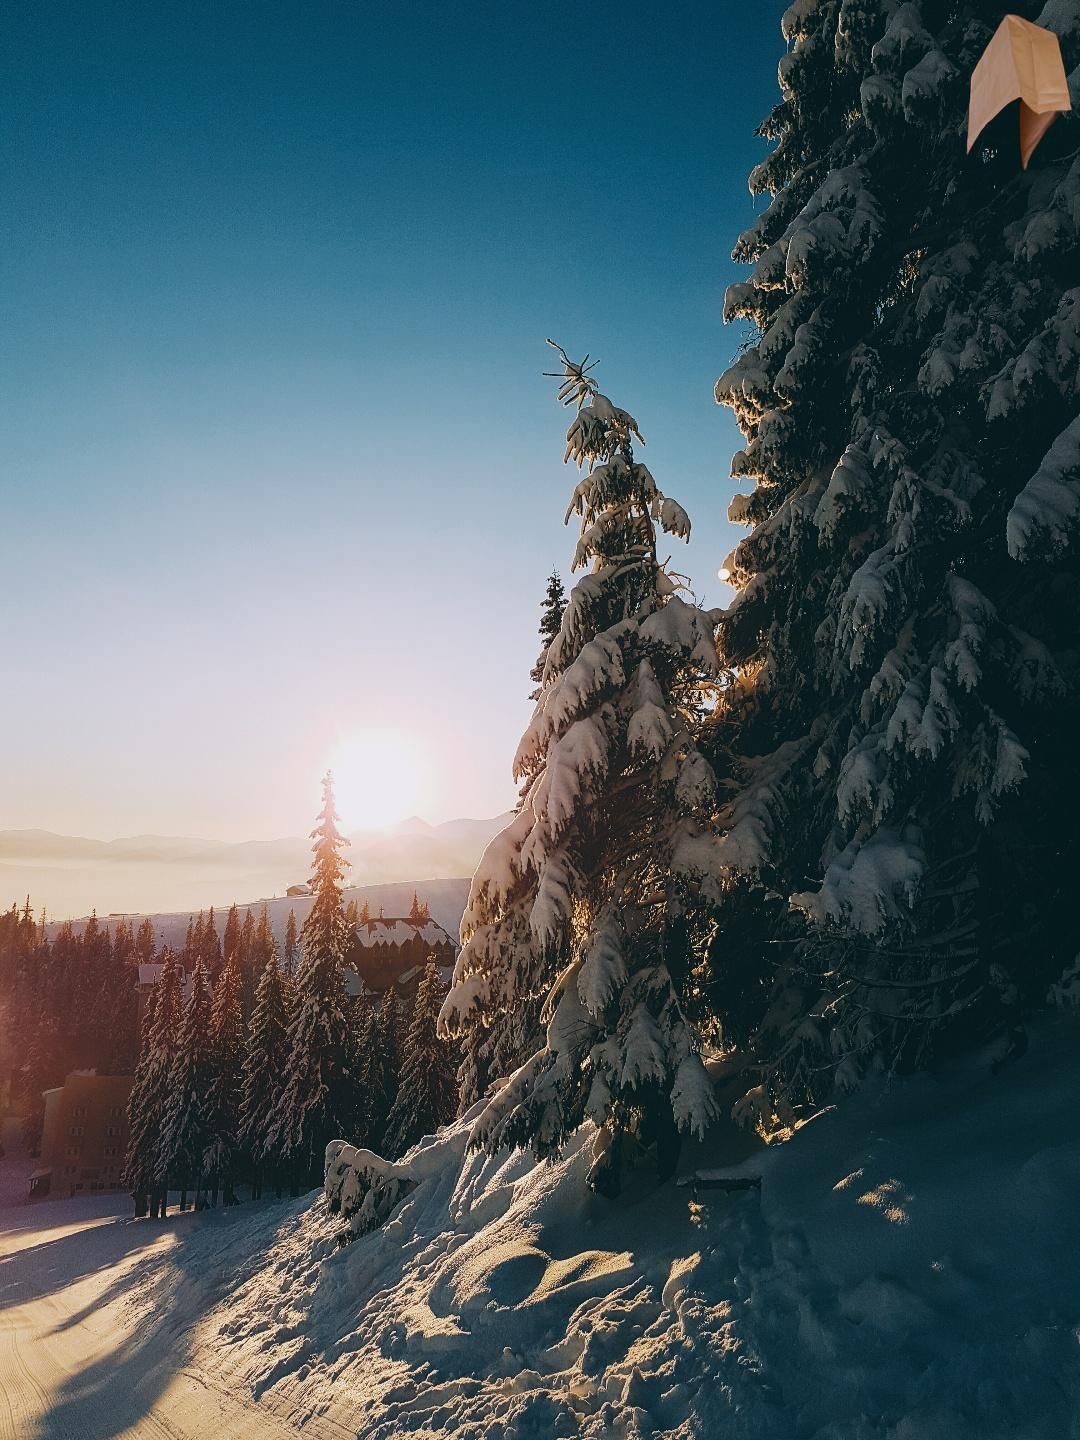paper-bag: (963, 11, 1075, 173)
